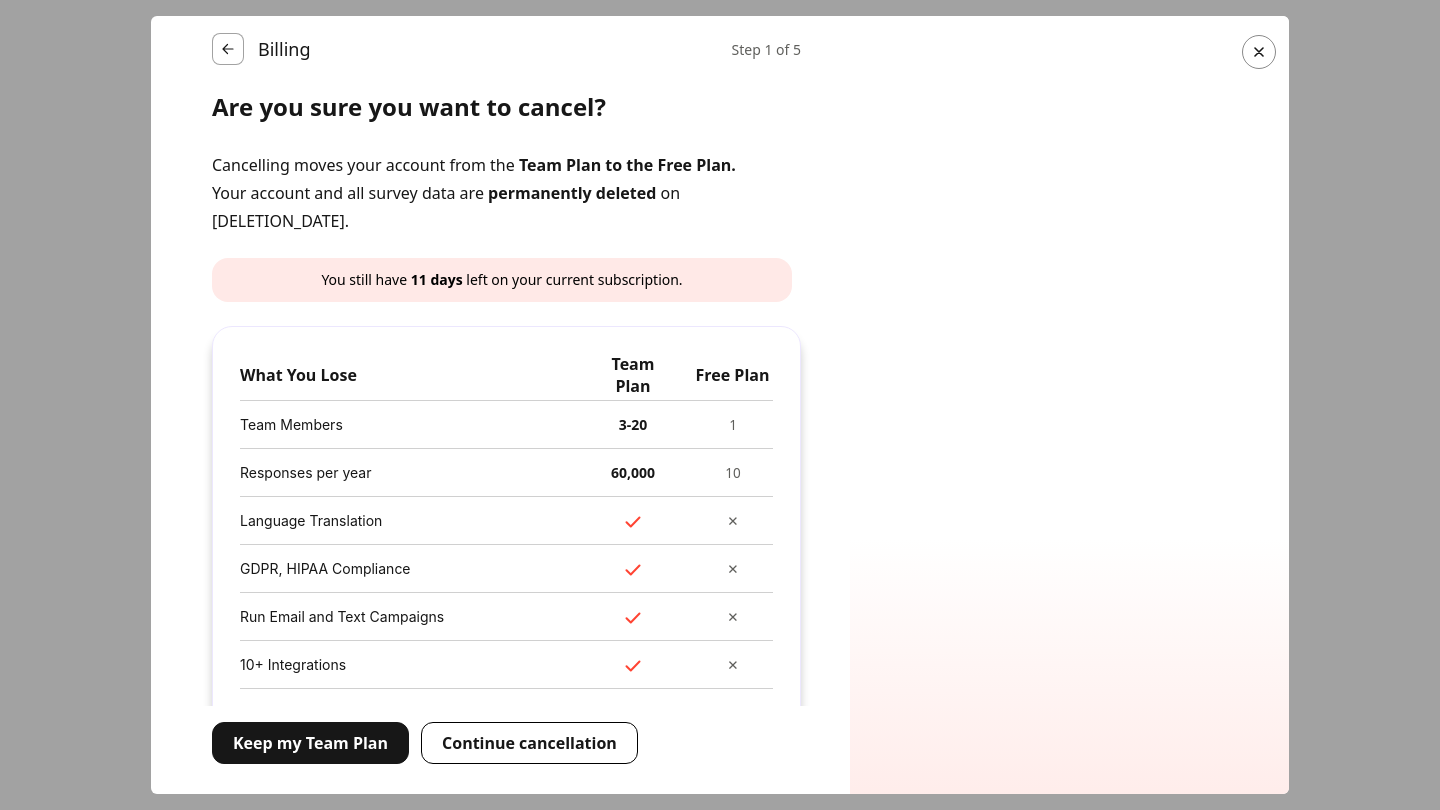
CancellationModal › Flow B: lifetime step has no pause / lower plans
Click the button "Continue cancellation". click: (529, 743)
box: [421,722,638,764]
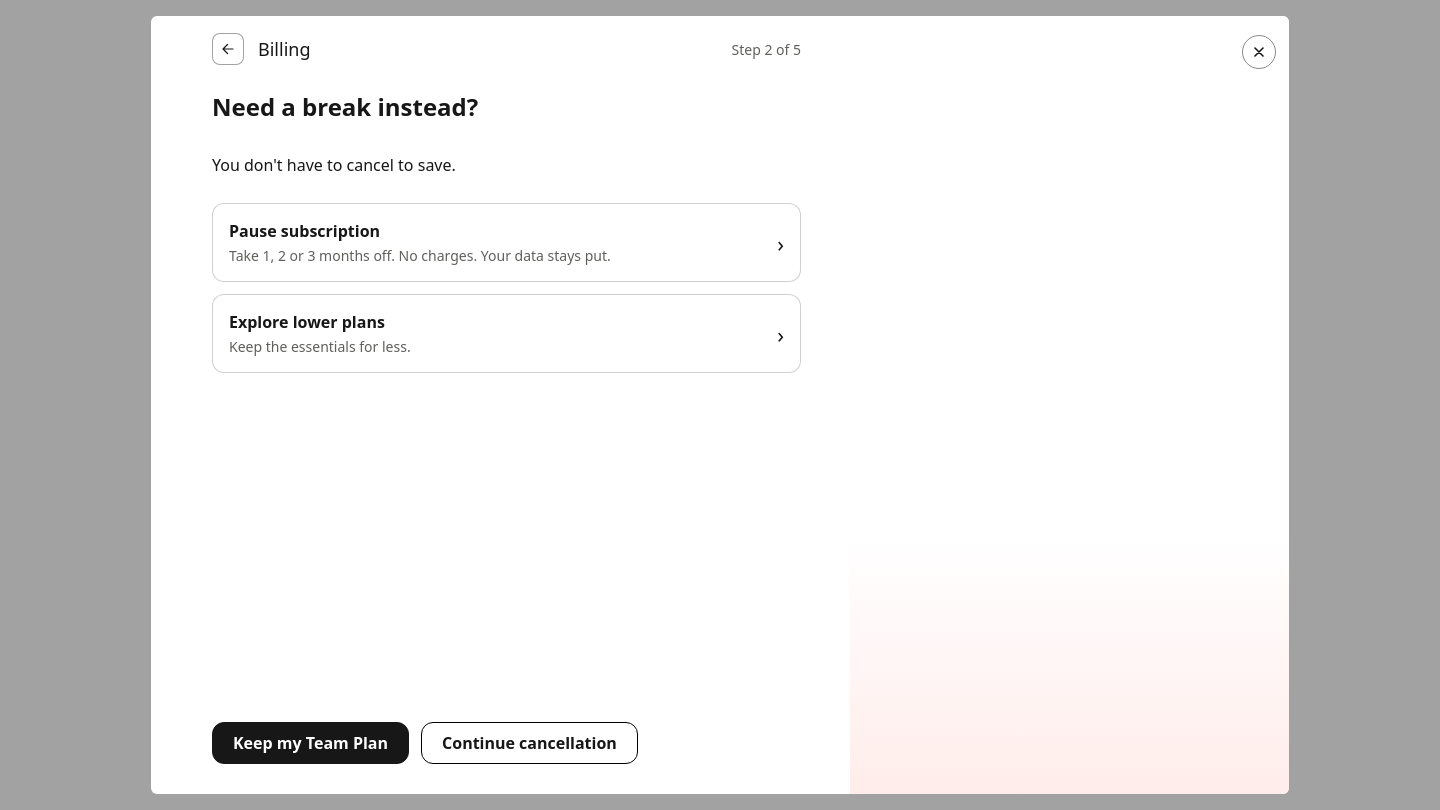
Click the button "Continue cancellation". click: (529, 743)
box: [421,722,638,764]
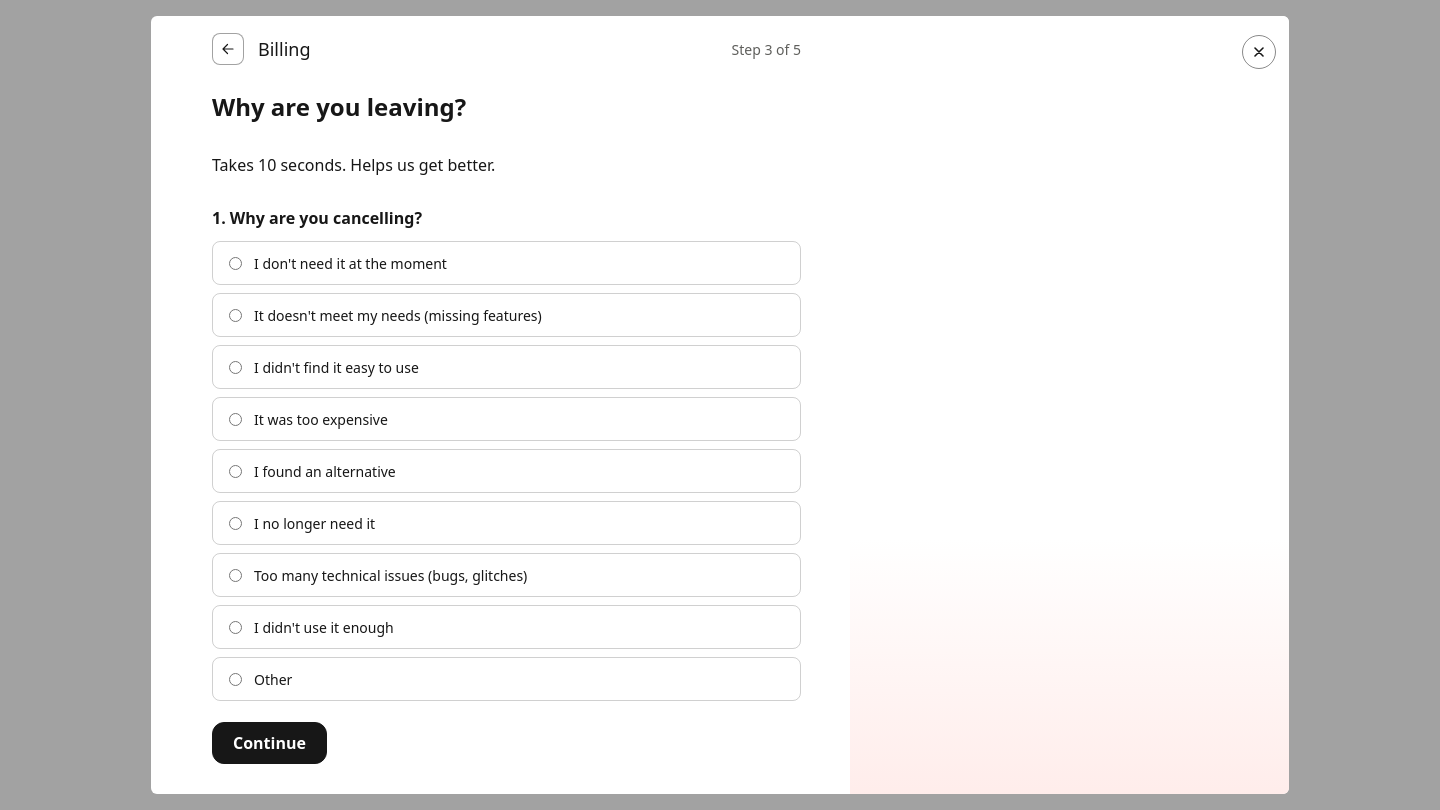
Click the radio button labelled "I don't need it at the moment". click: (236, 263)
box: [229,256,242,270]
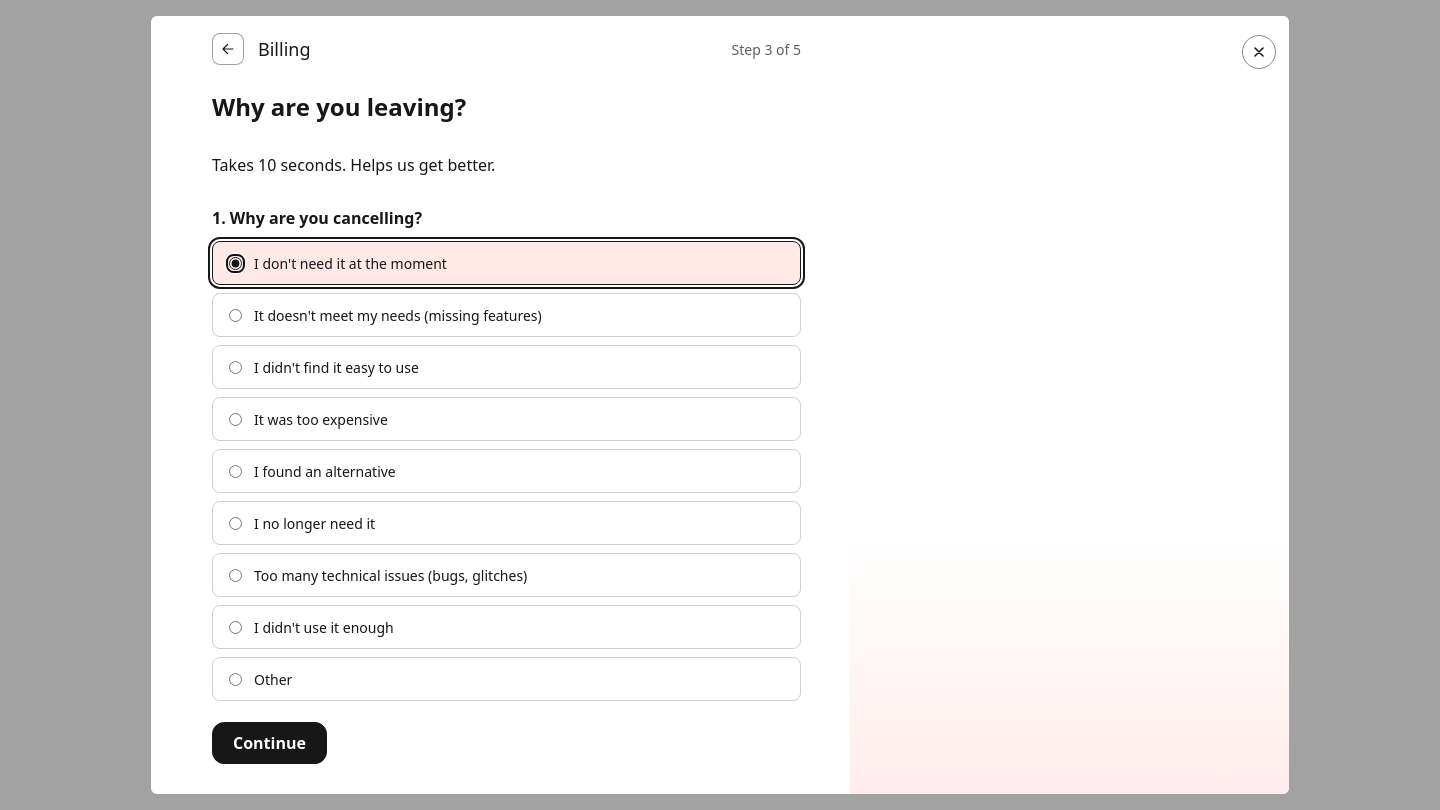
Click the button "Continue". click: (269, 743)
box: [212,722,327,764]
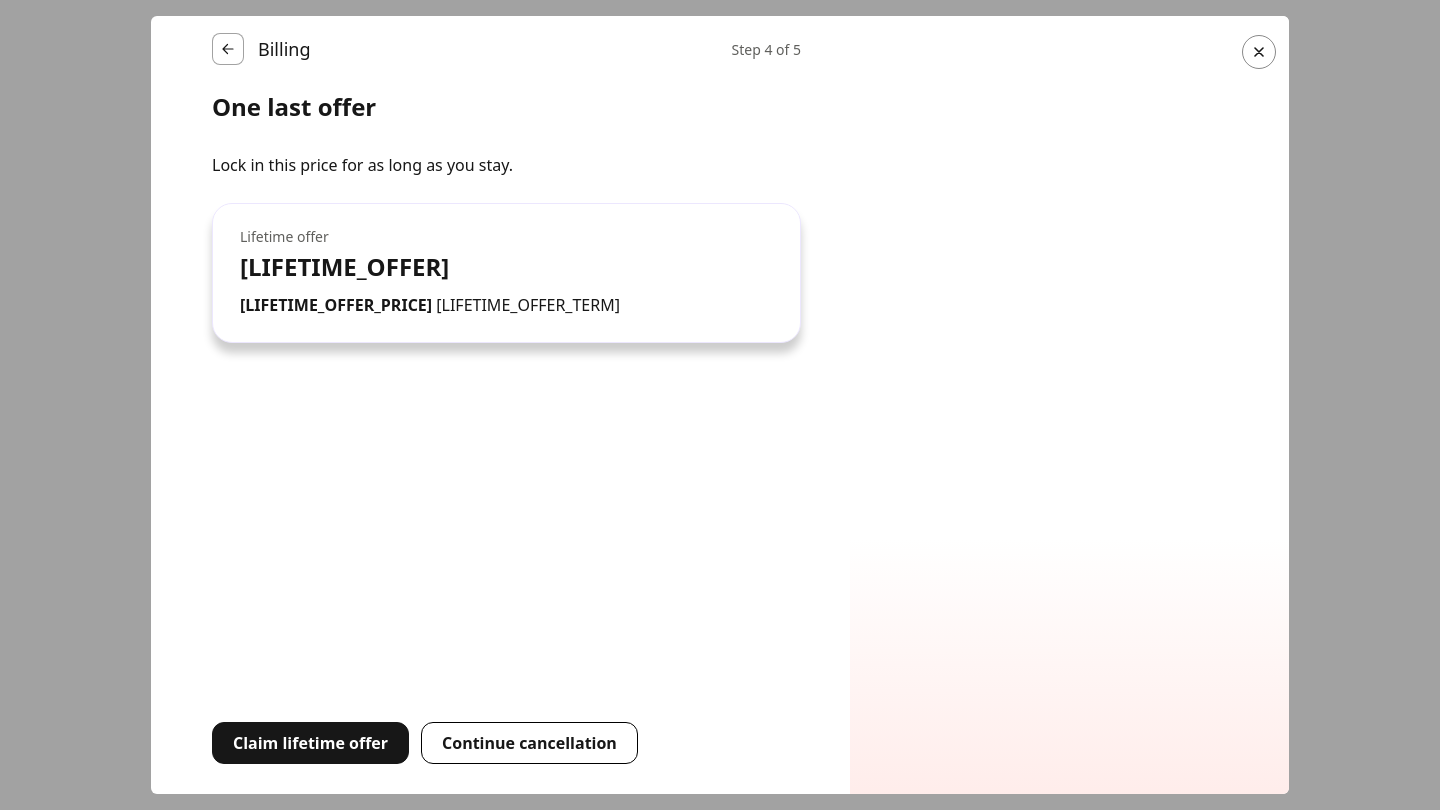
Expected: the button "Pause subscription" is not shown
Expected: the button "Claim lifetime offer" is shown, [212,722,409,764]
